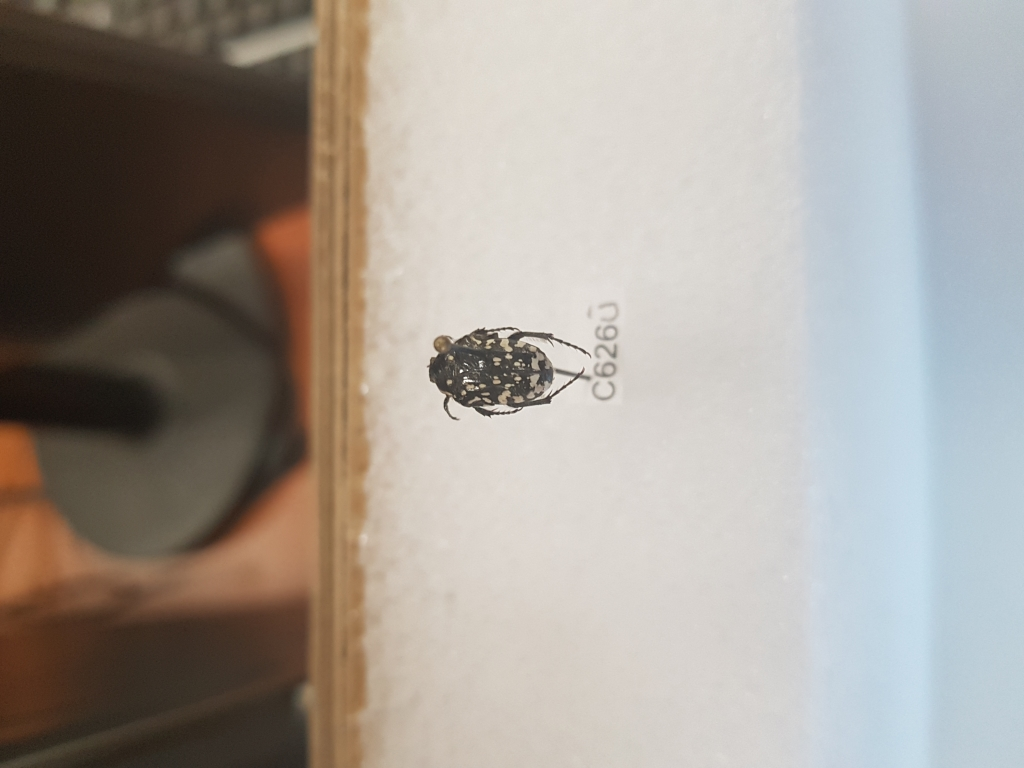Oxythyrea_funesta: (425, 320, 600, 426)
